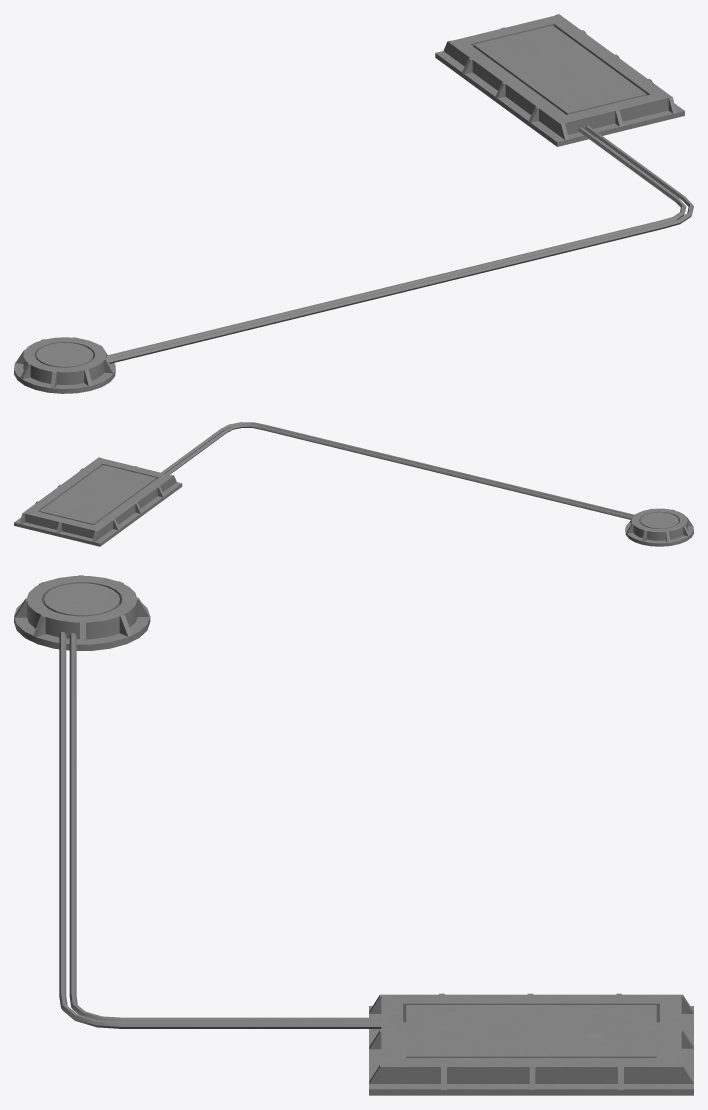
The model's file is roof_obj.fbx.
The picture shows the model from 3 angles, top to bottom: view 1: azimuth 30°, elevation 25°; view 2: azimuth 150°, elevation 25°; view 3: azimuth 270°, elevation 25°; orthographic projection. The views are drawn at different scales.
Parts seen in each view (by area): view 1: roof_obj; view 2: roof_obj; view 3: roof_obj.
Part boxes in pixels (bbox=[...]): roof_obj: bbox=[14, 14, 693, 393]; roof_obj: bbox=[14, 422, 693, 546]; roof_obj: bbox=[14, 575, 693, 1095].
Bounding box in the file's own units: 671 × 14.48 × 384.
